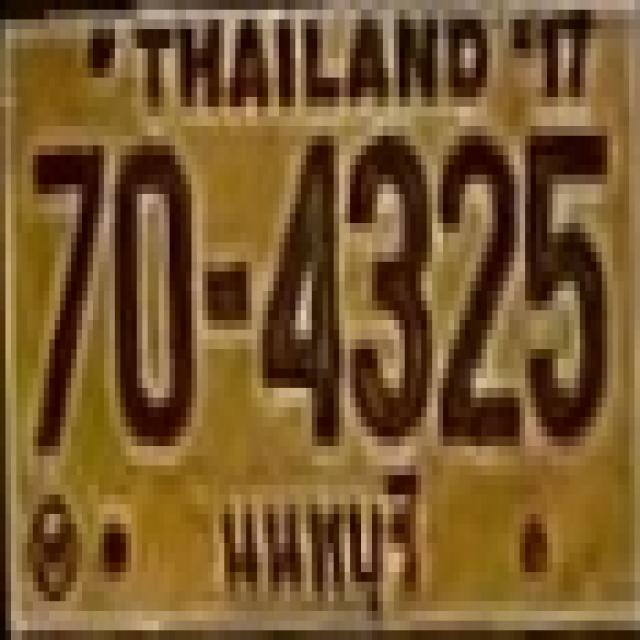0: (112, 136, 189, 436)
2: (438, 126, 514, 436)
3: (344, 126, 426, 436)
4: (257, 126, 339, 436)
5: (522, 126, 604, 436)
7: (30, 136, 101, 446)
NBI: (214, 457, 433, 640)
